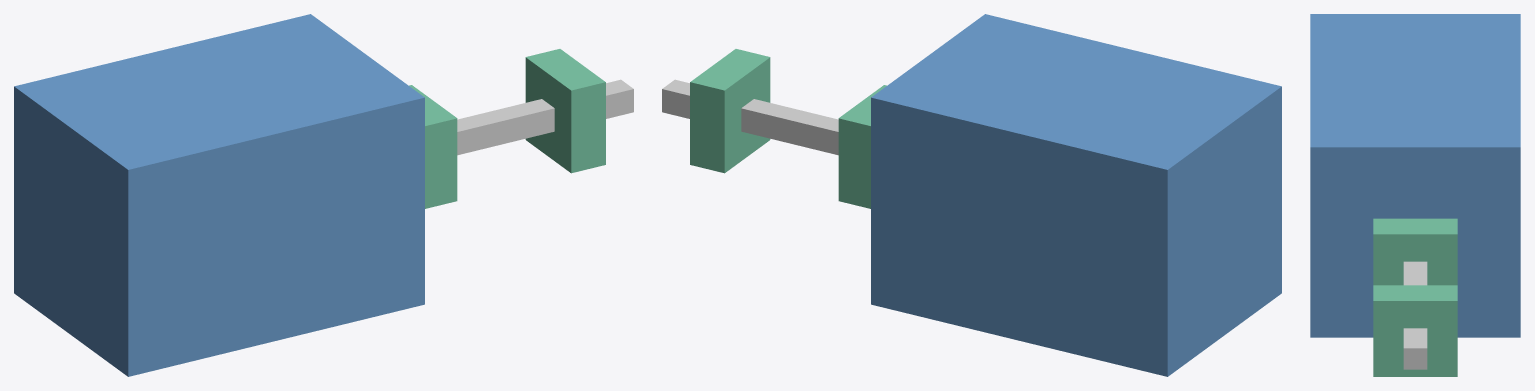
The model's file is agent-assembly.glb.
The picture shows the model from 3 angles, left to right: view 1: azimuth 30°, elevation 25°; view 2: azimuth 150°, elevation 25°; view 3: azimuth 270°, elevation 25°; orthographic projection. The views are drawn at different scales.
Visible parts, largest first — view 1: Housing, Bearing rear, Shaft, Bearing front; view 2: Housing, Bearing rear, Shaft, Bearing front; view 3: Housing, Bearing rear, Bearing front, Shaft.
Part boxes in pixels (<box>): Housing: <box>14,14,424,376</box>; Bearing rear: <box>525,49,605,173</box>; Shaft: <box>457,79,633,155</box>; Bearing front: <box>409,85,457,208</box>; Housing: <box>871,14,1281,376</box>; Bearing rear: <box>690,49,770,173</box>; Shaft: <box>662,79,838,155</box>; Bearing front: <box>838,85,886,208</box>; Housing: <box>1310,14,1520,337</box>; Bearing rear: <box>1373,285,1457,376</box>; Bearing front: <box>1373,218,1457,285</box>; Shaft: <box>1403,261,1427,369</box>.
Bounding box in the file's own units: 1.12 × 0.4 × 0.4.
